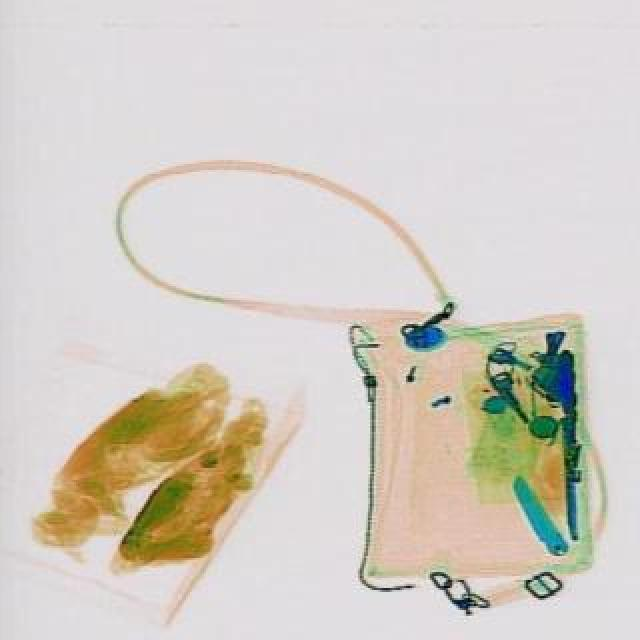knife: (500, 470, 572, 560)
